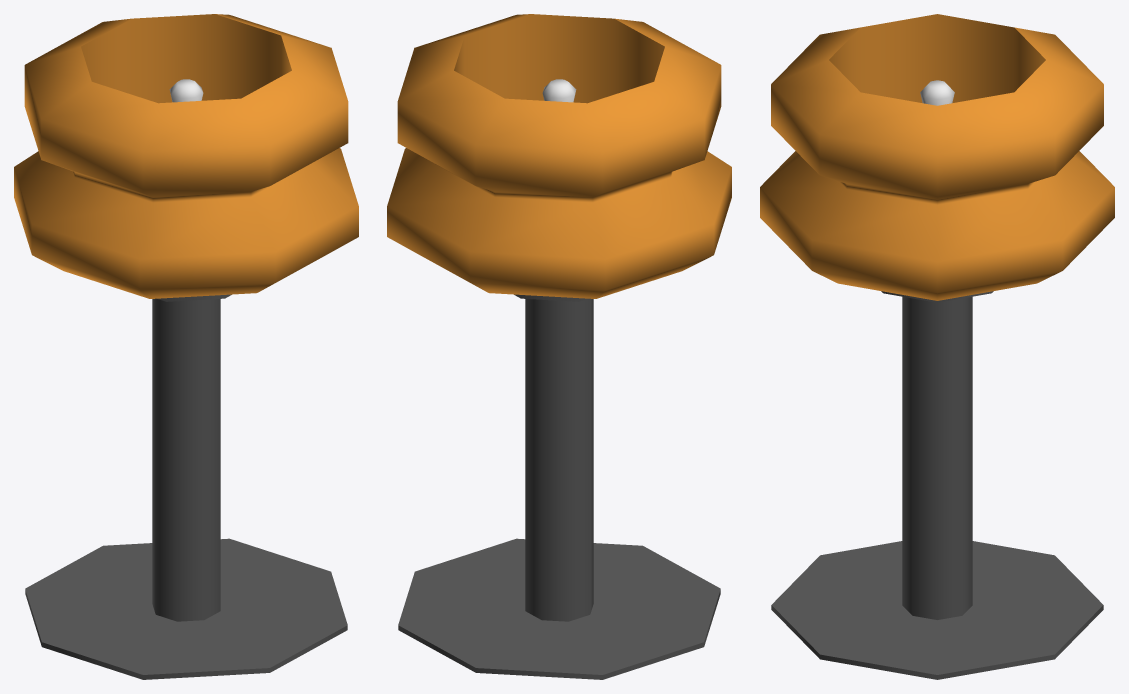
Rendered from SM_Lampe.fbx.
3 views of the same model, side by side, from view 1: azimuth 30°, elevation 25°; view 2: azimuth 150°, elevation 25°; view 3: azimuth 270°, elevation 25° (orthographic).
Parts seen in each view (by area): view 1: Lampe; view 2: Lampe; view 3: Lampe.
Boxes of the visible parts, x1,y1,x2,y2 form: Lampe: (14, 14, 358, 679); Lampe: (387, 14, 731, 679); Lampe: (760, 14, 1114, 679).
Size of the model in its own units: 387 by 662 by 387.
